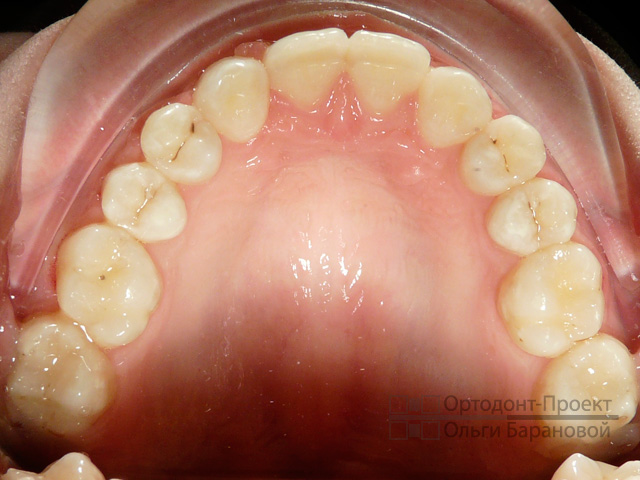ULCI_healthy: (348, 31, 430, 108)
ULLI_healthy: (420, 67, 492, 144)
UR1BC_decay: (489, 180, 575, 251)
UR1BC_healthy: (102, 164, 187, 241)
UR1M_healthy: (18, 321, 105, 434), (541, 335, 635, 395)
UR2BC_decay: (58, 226, 161, 344)
UR2BC_healthy: (502, 244, 602, 354)
URCI_healthy: (267, 28, 347, 104)
URC_decay: (142, 104, 221, 181), (467, 115, 544, 191)
URLI_healthy: (197, 58, 267, 141)
